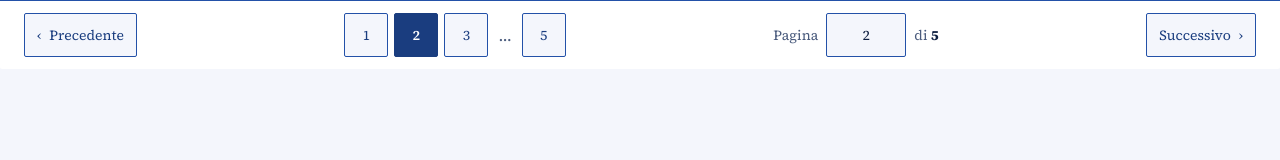
it: Pagination › il campo cambia pagina solo su Invio, e ignora valori fuori intervallo
Replace the text in the number field labelled "Pagina" with "4". click: (866, 35)
box: [826, 13, 906, 57]
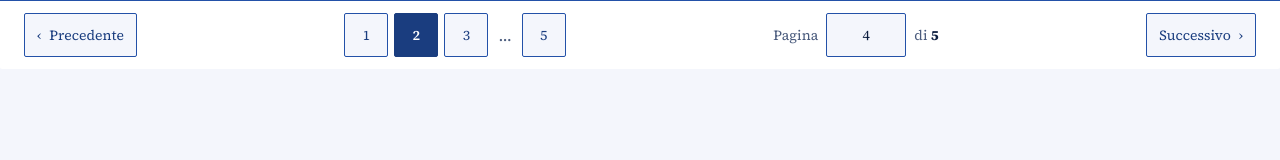
Press Enter in the number field labelled "Pagina", box [826, 13, 906, 57]
Replace the text in the number field labelled "Pagina" with "99". click: (866, 35)
box: [826, 13, 906, 57]
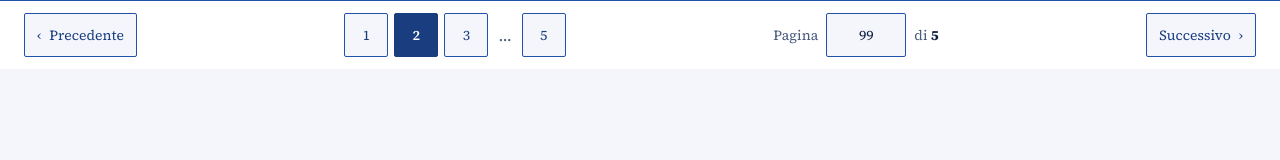
Press Enter in the number field labelled "Pagina", box [826, 13, 906, 57]
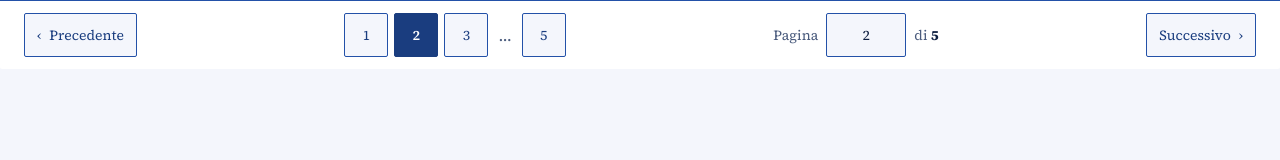
Now the number field labelled "Pagina" holds "2", box [826, 13, 906, 57]
